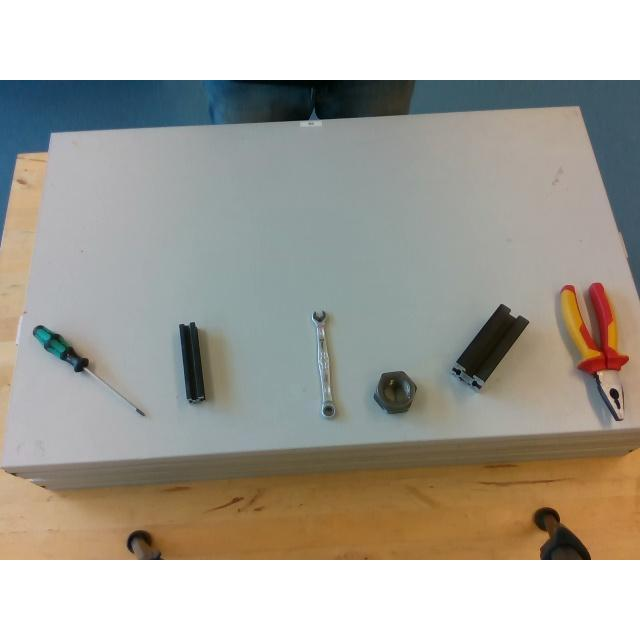F20_20_B: (178, 322, 206, 406)
M30: (374, 370, 416, 412)
S40_40_B: (452, 304, 528, 388)
Screwdriver: (32, 326, 146, 414)
Wrench: (312, 310, 336, 416)
